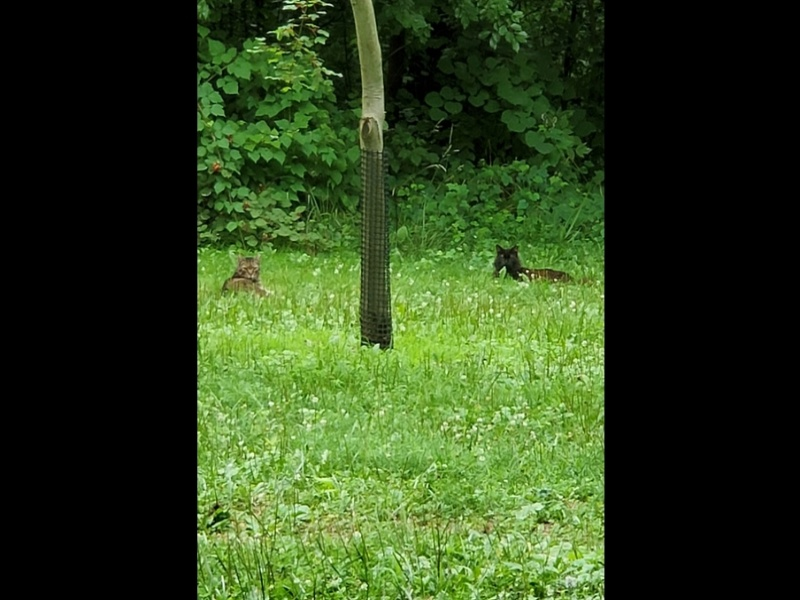cat: (489, 241, 577, 286), (224, 254, 277, 302)
